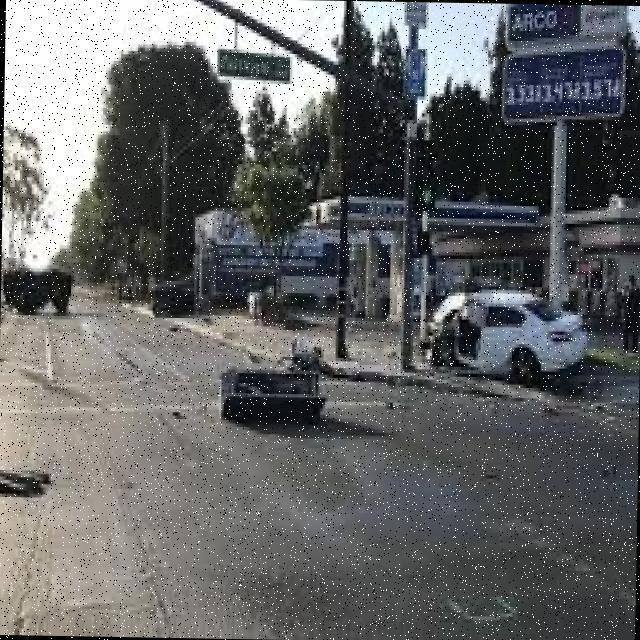accident: (417, 269, 595, 391)
